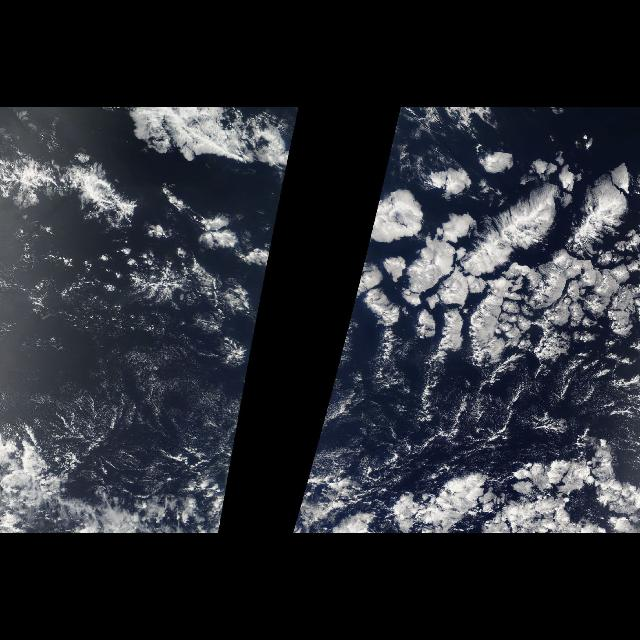Flower: (334, 150, 638, 374)
Sugar: (304, 340, 578, 484), (17, 340, 254, 490)
